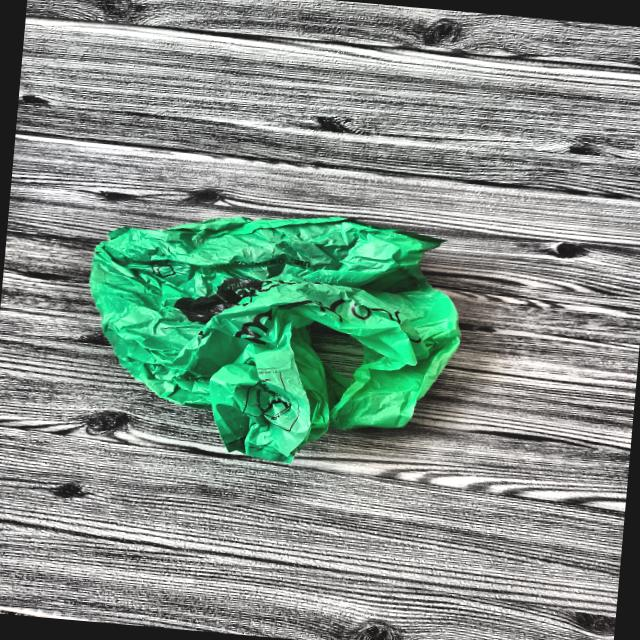plastic bag: (51, 170, 497, 476)
